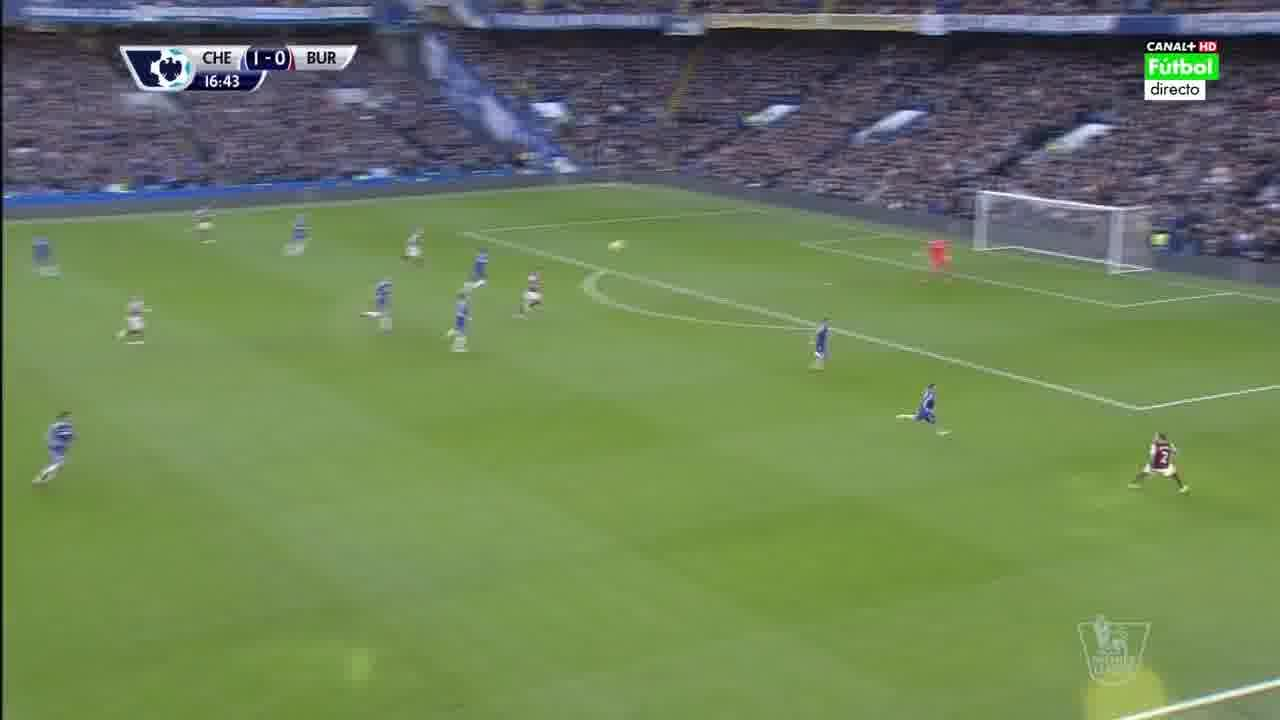football: (609, 240, 624, 255)
